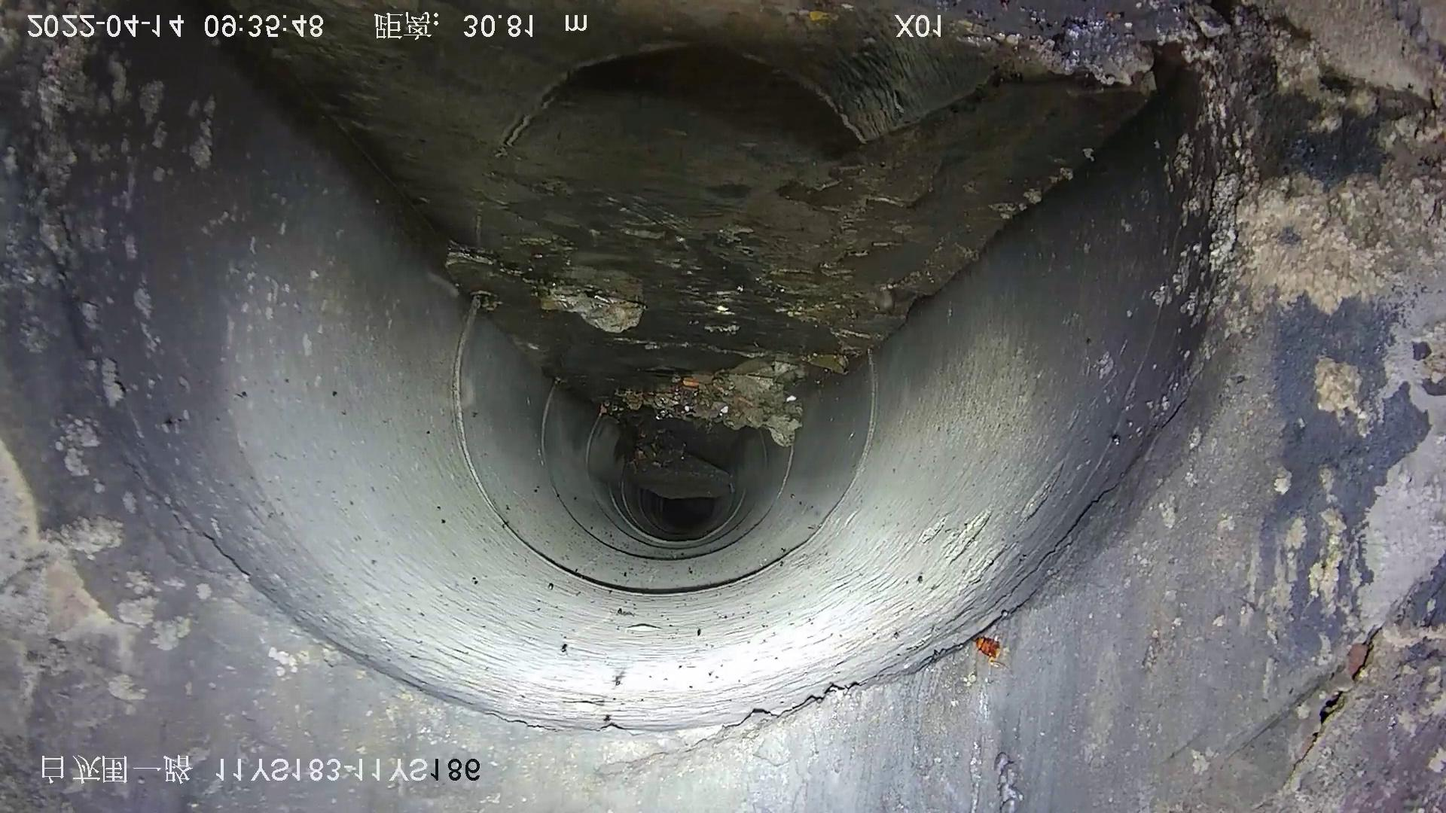CJ: (203, 1, 1189, 498)
CKTJ: (442, 289, 886, 602)
